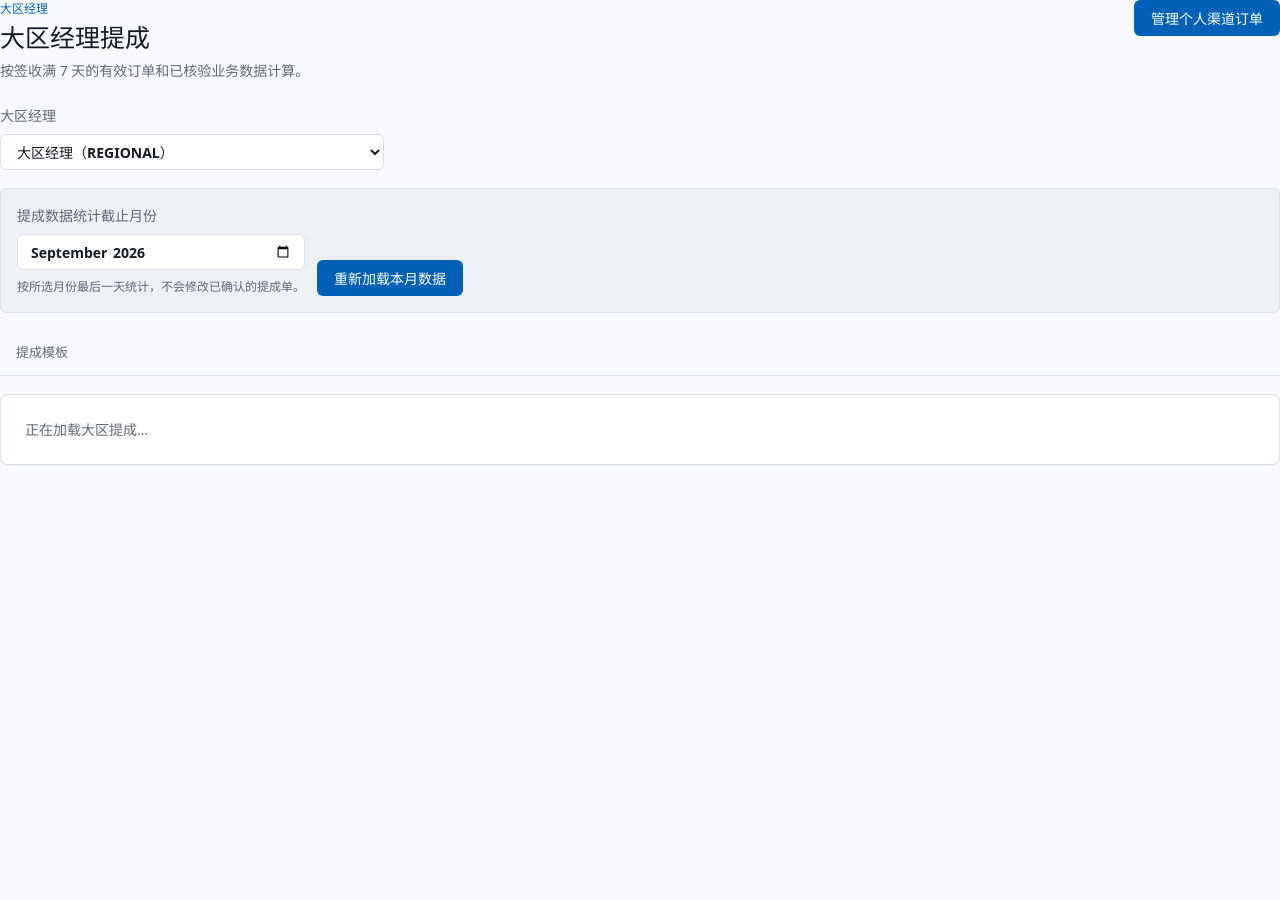
it: 大区经理目标周期 › 不允许选择未来月份，并在当前视口说明原因
The width and height of the screenshot is (1280, 900).
Replace the text in the field labelled "提成数据统计截止月份 按所选月份最后一天统计，不会修改已确认的提成单。" with "2026-10" at point(161, 252), box [17, 234, 305, 270]
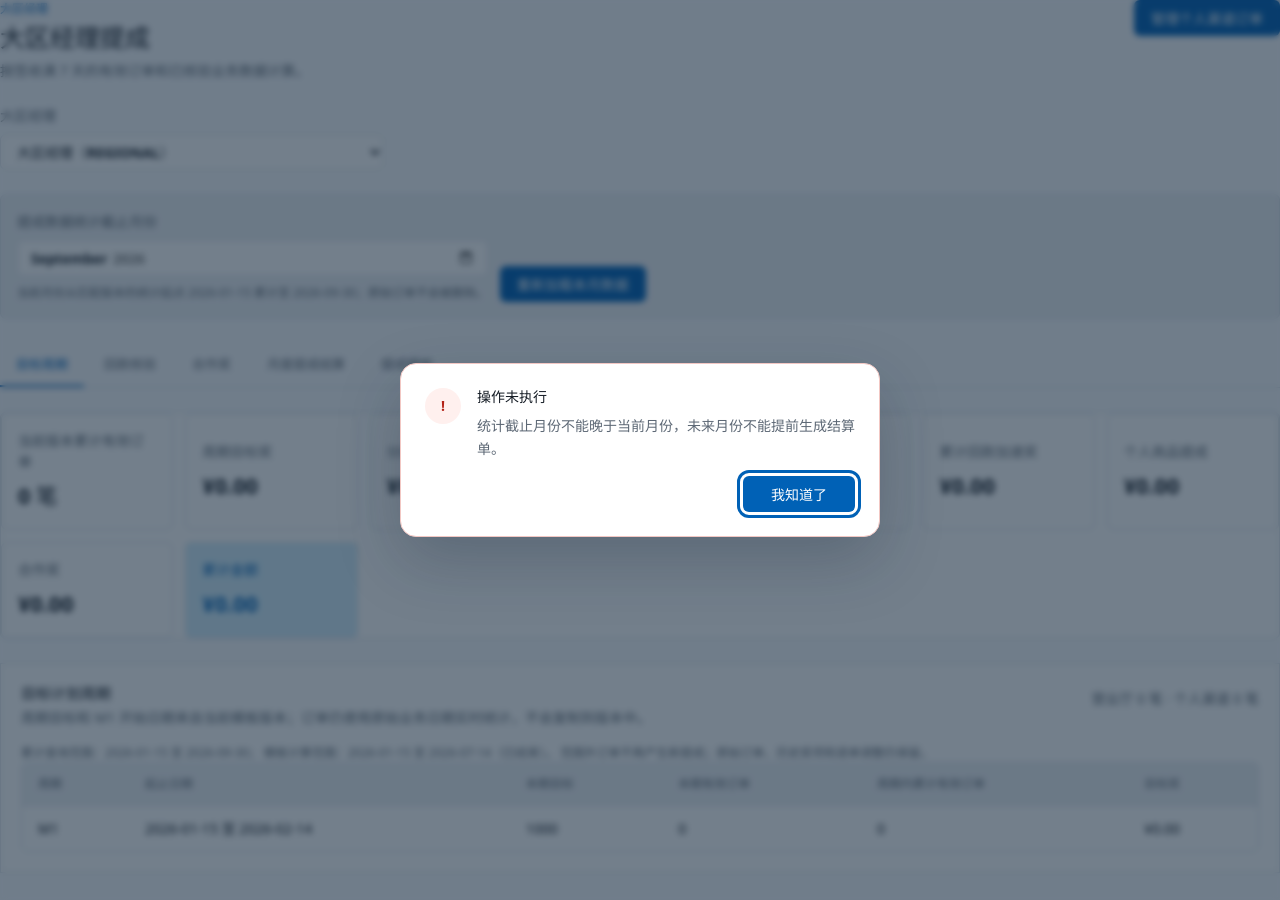
Check: the field labelled "提成数据统计截止月份" holds "2026-09", box [17, 240, 488, 276]
Check: the dialog shows "未来月份不能提前生成结算单", box [477, 416, 855, 458]
